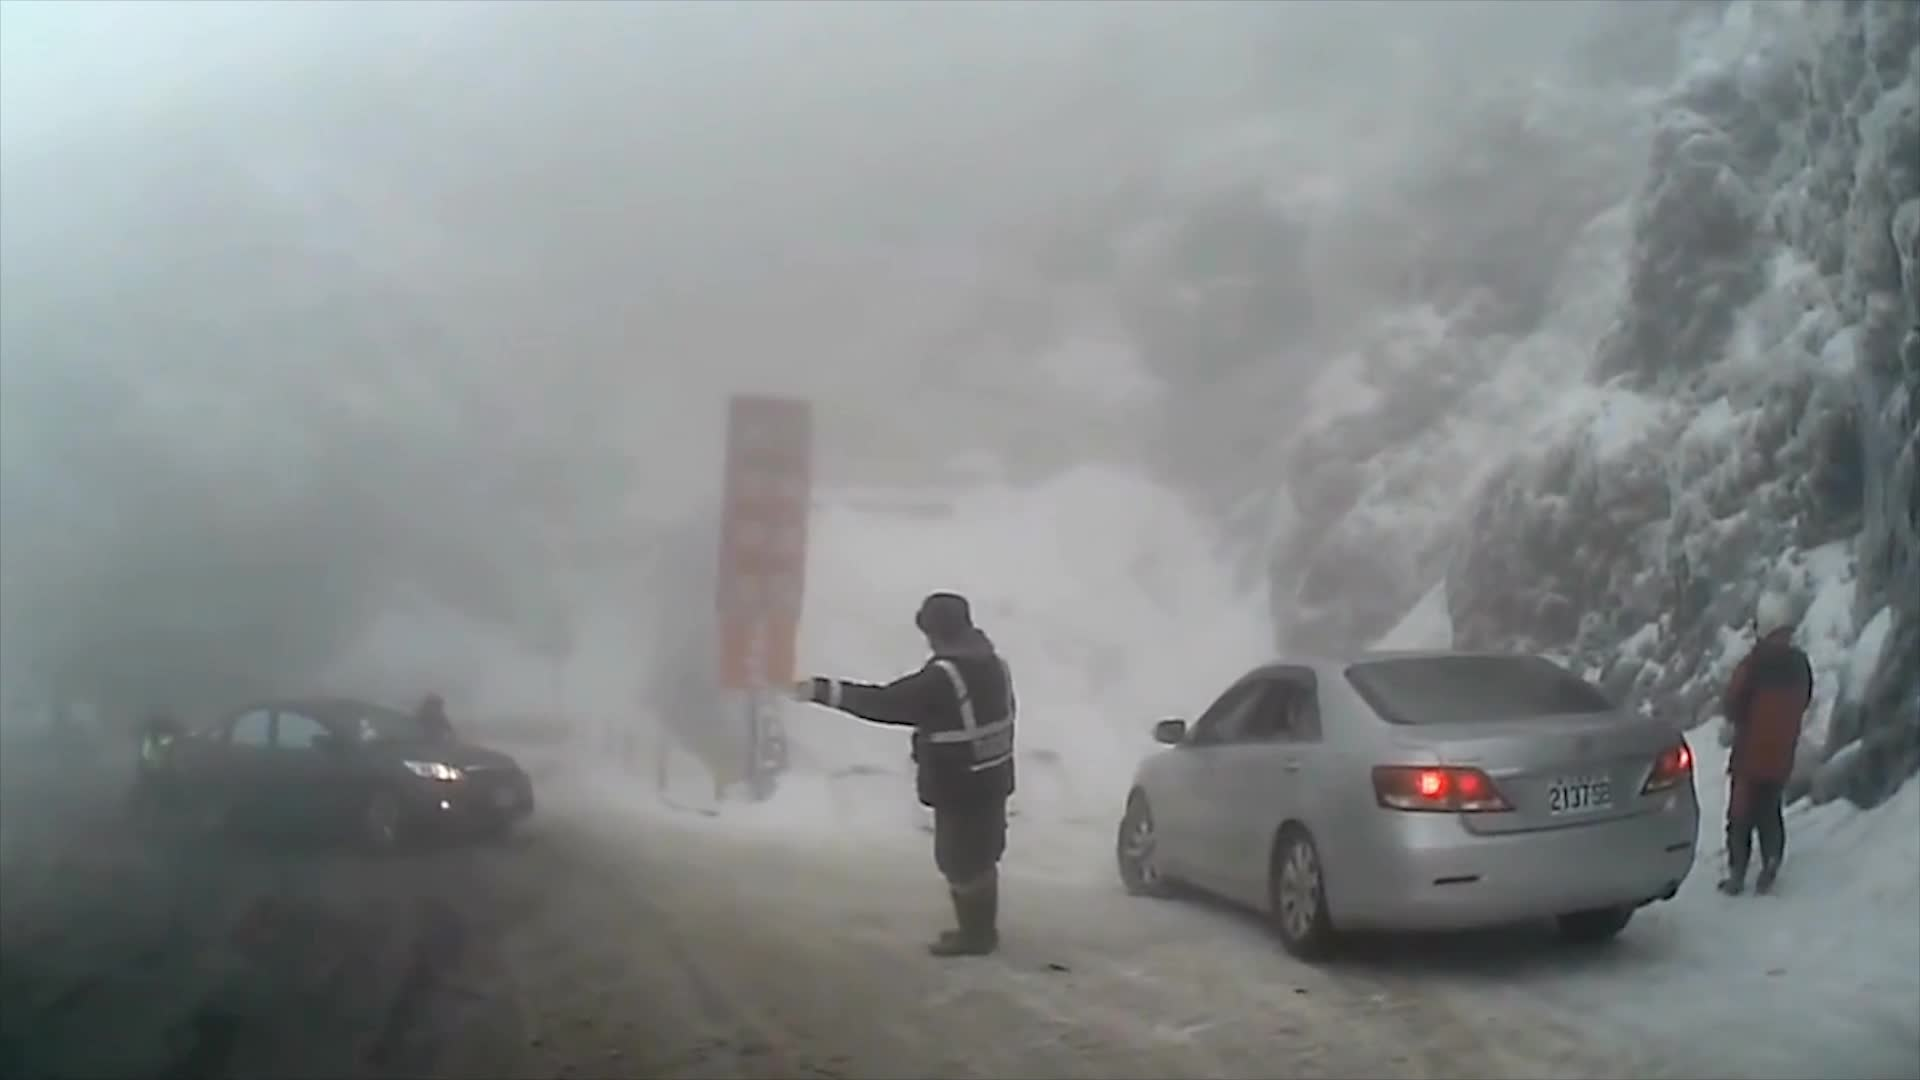pedestrian: (786, 589, 1016, 952), (1724, 585, 1821, 901)
vehicle: (1115, 649, 1700, 963), (173, 695, 541, 856)
